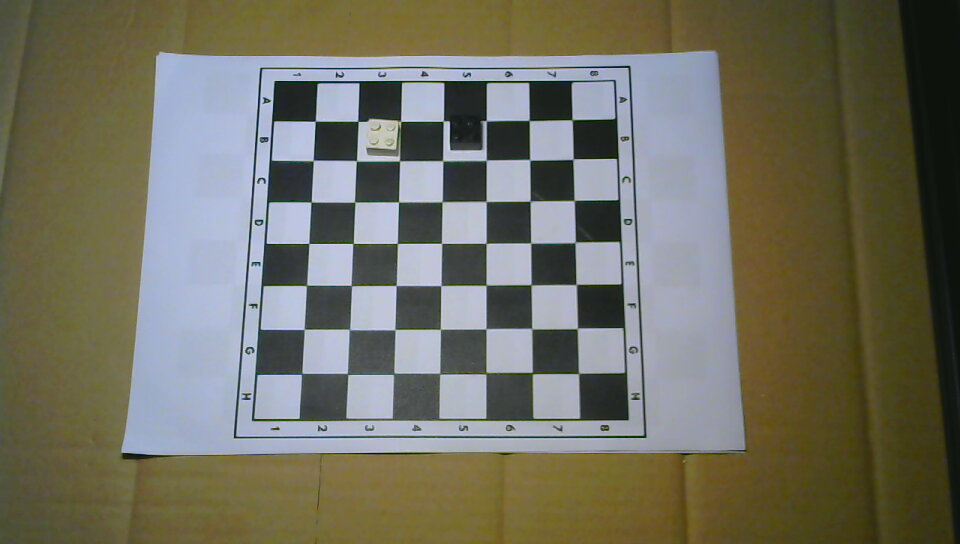bp: (447, 113, 484, 153)
wp: (365, 116, 401, 159)
